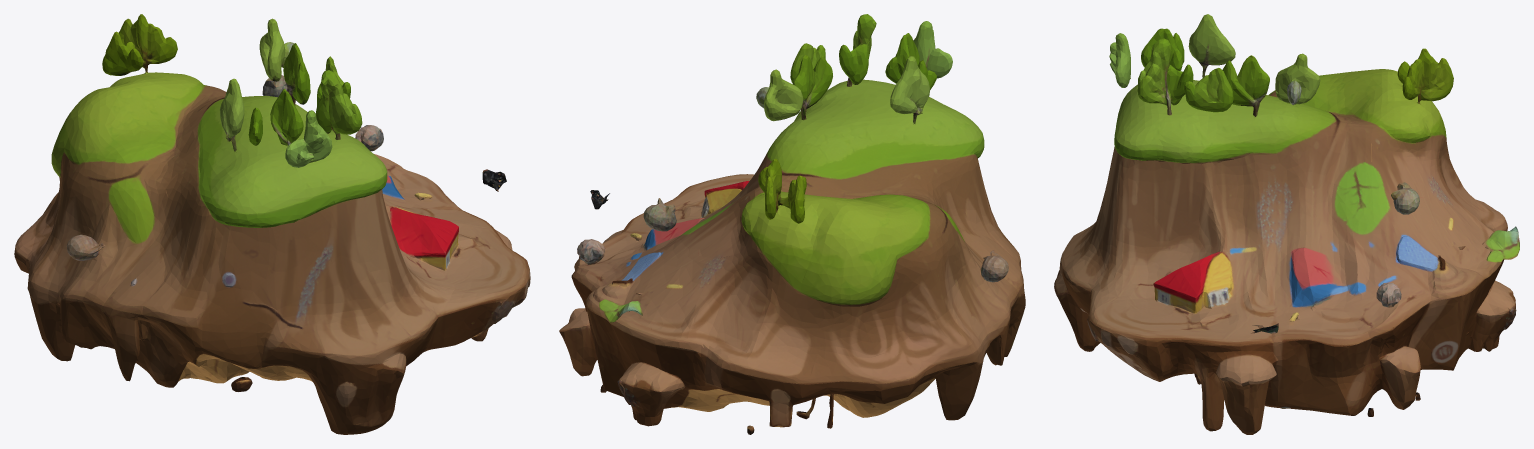
Rendered from deslizamiento4.glb.
3 views of the same model, side by side, from view 1: azimuth 30°, elevation 25°; view 2: azimuth 150°, elevation 25°; view 3: azimuth 270°, elevation 25° (orthographic). The views are drawn at different scales.
Visible parts, largest first — view 1: world; view 2: world; view 3: world.
Boxes of the visible parts, box(x1,y1,x2,y2) form: world: box(14, 14, 530, 434); world: box(559, 14, 1025, 434); world: box(1054, 14, 1519, 434).
Bounding box in the file's own units: 0.6955 × 0.5204 × 0.6877.
1 material, 1 textured.
